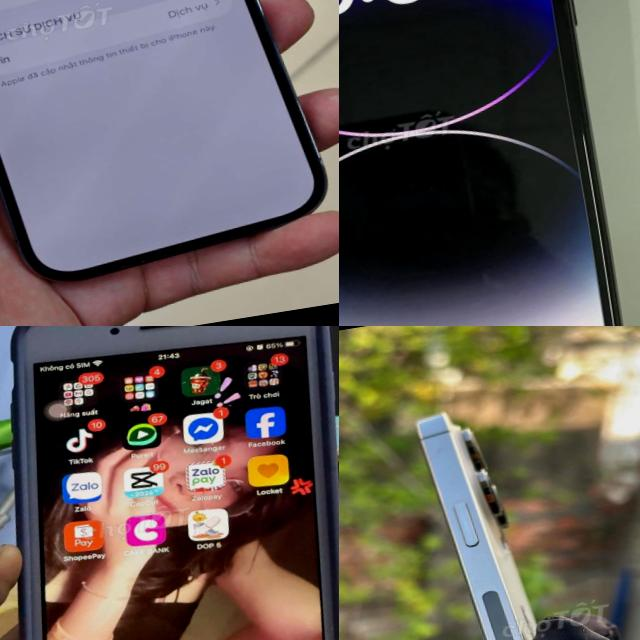physical_damage: (311, 618, 339, 640)
